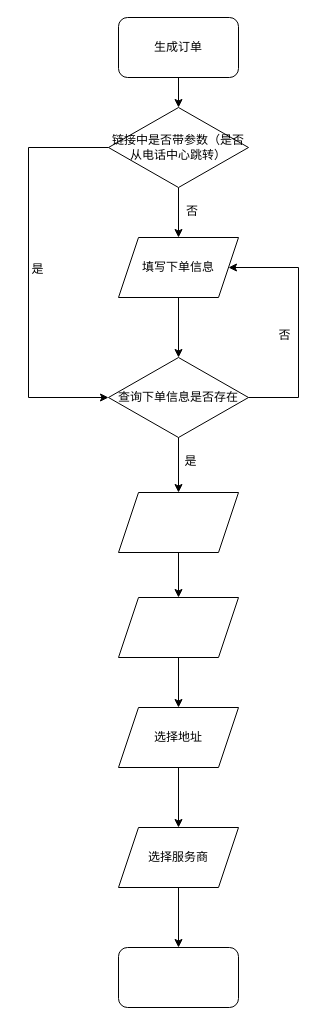
Some shapes in this 324 by 1025 pixel diagram are drawn without their labels. Each missing label, with the box of its shape:
填写客户信息: (118, 596, 238, 658)
完成下单: (118, 946, 238, 1008)
进入下单页面: (118, 492, 238, 552)
